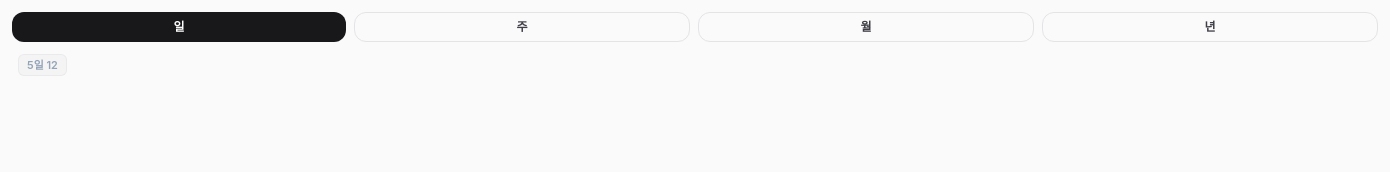
Test: PriceChart › computes the moving-average legend from monthly closes when the 월 tab is active
Click the button "월" at (866, 27), box [698,12,1034,42]
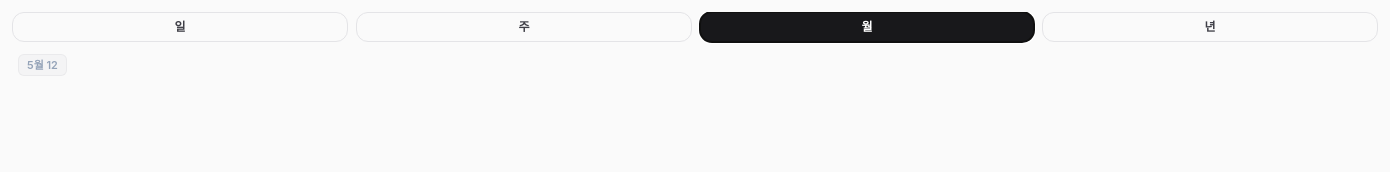
Expected: the element with test id "ma-legend" shows "12", [46,58,58,72]
Expected: the element with test id "ma-legend" shows "5월", [27,58,44,72]
